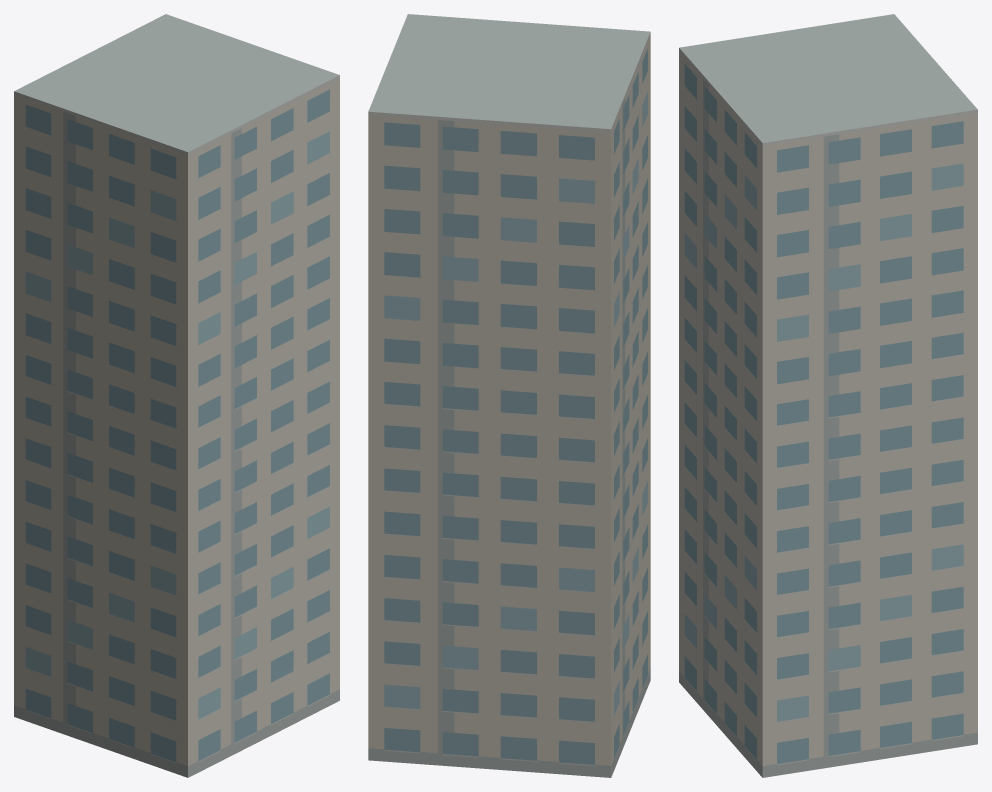
File: residential-acdb9ca9-cffe-4e39-8aa1-8ac41e992d7f.glb
The picture shows the model from 3 angles, left to right: view 1: azimuth 30°, elevation 25°; view 2: azimuth 150°, elevation 25°; view 3: azimuth 270°, elevation 25°; orthographic projection. The views are drawn at different scales.
Visible parts, largest first — view 1: residential-acdb9ca9-cffe-4e39-8aa1-8ac41e992d7f.tmp; view 2: residential-acdb9ca9-cffe-4e39-8aa1-8ac41e992d7f.tmp; view 3: residential-acdb9ca9-cffe-4e39-8aa1-8ac41e992d7f.tmp.
Boxes of the visible parts, x1=… form: residential-acdb9ca9-cffe-4e39-8aa1-8ac41e992d7f.tmp: x1=14, y1=14, x2=339, y2=777; residential-acdb9ca9-cffe-4e39-8aa1-8ac41e992d7f.tmp: x1=368, y1=14, x2=650, y2=777; residential-acdb9ca9-cffe-4e39-8aa1-8ac41e992d7f.tmp: x1=679, y1=14, x2=977, y2=777.
Size of the model in its own units: 21.83 by 50 by 21.34.
